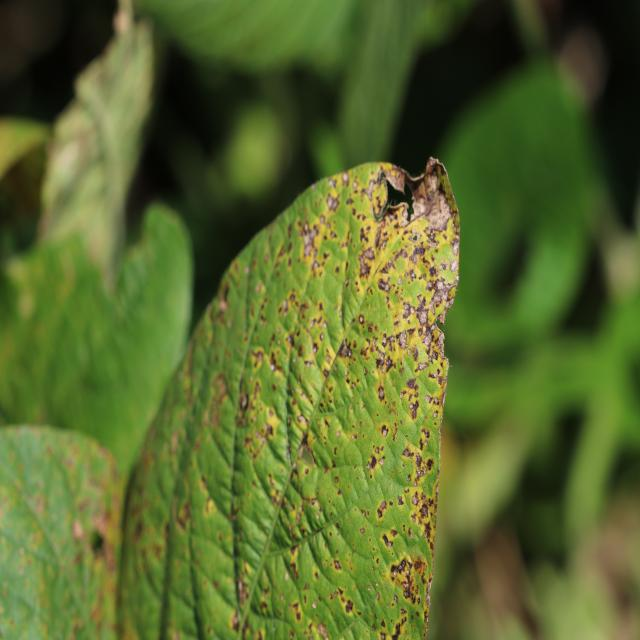Bacterial_Blight: (435, 350, 449, 519), (415, 192, 456, 241), (390, 556, 422, 609), (246, 413, 276, 455), (378, 166, 410, 205), (372, 337, 395, 375), (438, 290, 456, 325), (301, 225, 319, 260), (213, 373, 229, 408), (362, 176, 382, 201), (358, 252, 375, 279), (177, 500, 191, 529), (237, 578, 249, 606), (435, 330, 447, 357), (338, 338, 353, 359), (421, 328, 434, 350), (326, 192, 340, 212), (402, 301, 416, 320), (290, 600, 302, 622), (416, 309, 429, 327), (414, 463, 427, 481), (408, 399, 419, 420), (359, 226, 371, 245), (316, 622, 329, 639), (410, 246, 423, 263), (424, 393, 439, 407), (381, 533, 394, 549), (239, 392, 249, 412), (253, 349, 264, 366), (421, 427, 431, 444), (406, 377, 418, 391), (415, 361, 429, 372), (218, 299, 229, 313), (428, 264, 439, 278), (232, 611, 240, 630), (420, 502, 429, 518), (296, 506, 304, 524), (391, 423, 399, 441), (281, 299, 289, 316), (345, 599, 354, 614), (255, 282, 264, 296), (450, 259, 459, 272), (298, 414, 307, 427), (411, 492, 419, 506), (426, 280, 435, 292), (402, 446, 411, 458), (333, 559, 342, 571), (381, 424, 389, 437), (286, 333, 294, 346), (407, 326, 416, 337), (381, 334, 388, 348), (342, 172, 350, 184), (328, 178, 336, 189), (378, 455, 385, 467), (409, 269, 416, 281), (411, 232, 419, 242), (312, 343, 319, 354), (380, 500, 387, 511), (297, 345, 303, 357), (358, 314, 364, 325), (361, 508, 368, 517), (441, 261, 448, 270), (270, 362, 276, 372), (397, 275, 403, 285), (344, 368, 350, 378), (411, 513, 417, 523), (285, 570, 290, 581), (391, 569, 397, 578), (271, 383, 277, 392), (312, 600, 317, 609), (433, 410, 438, 419), (336, 429, 341, 438), (351, 433, 357, 440), (407, 348, 412, 356), (393, 594, 398, 602), (376, 592, 380, 600), (367, 584, 371, 591)
Soybean: (118, 158, 461, 640)
